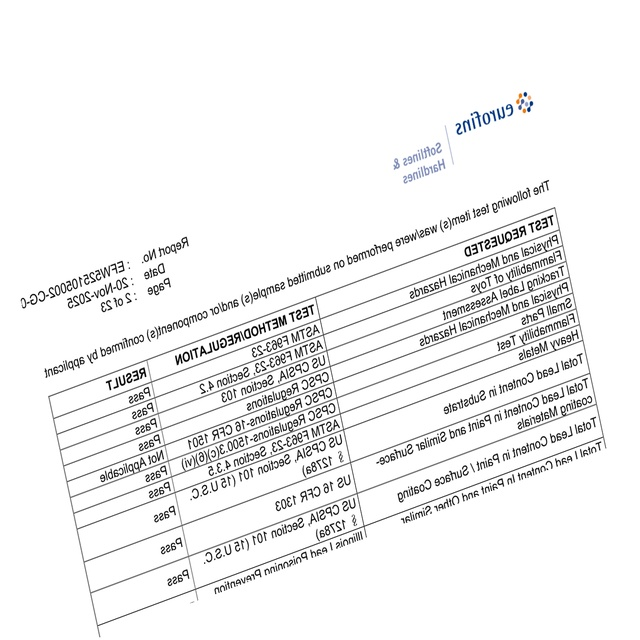eurofins: (449, 87, 535, 141)
